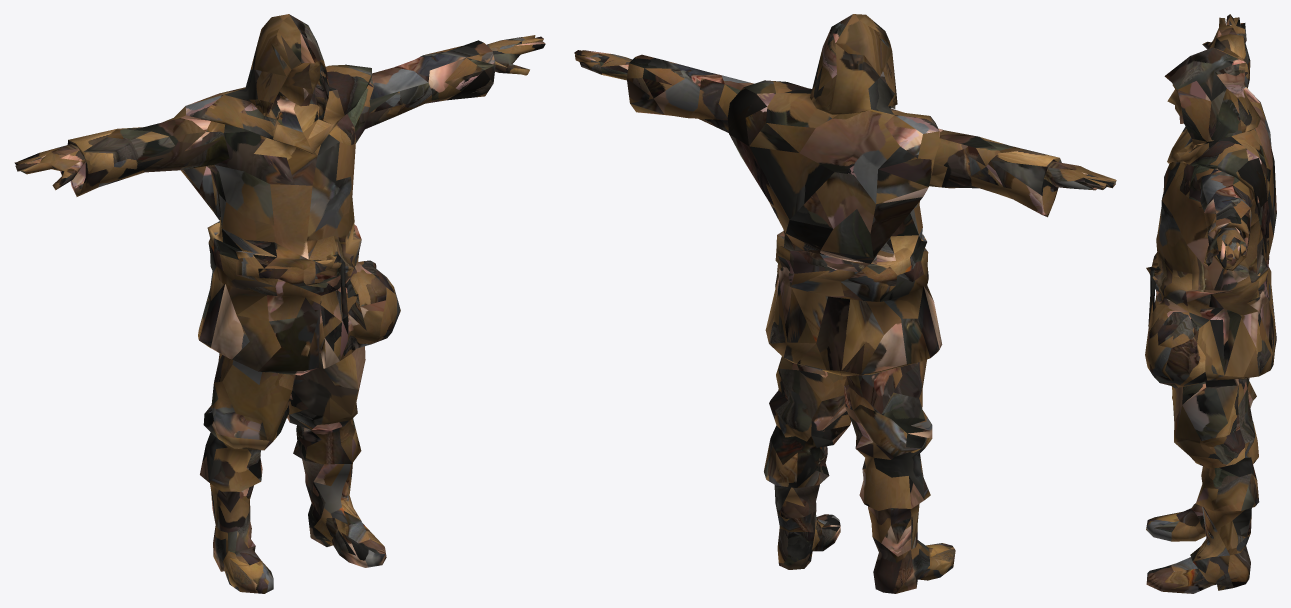
The model's file is vikingocivil.fbx.
3 views of the same model, side by side, from view 1: azimuth 30°, elevation 25°; view 2: azimuth 150°, elevation 25°; view 3: azimuth 270°, elevation 25° (orthographic). The views are drawn at different scales.
Visible parts, largest first — view 1: temp; view 2: temp; view 3: temp.
Boxes of the visible parts, bbox=[...] form: temp: bbox=[14, 14, 545, 593]; temp: bbox=[574, 14, 1116, 593]; temp: bbox=[1145, 14, 1276, 593].
Bounding box in the file's own units: 199 × 196 × 45.58.
